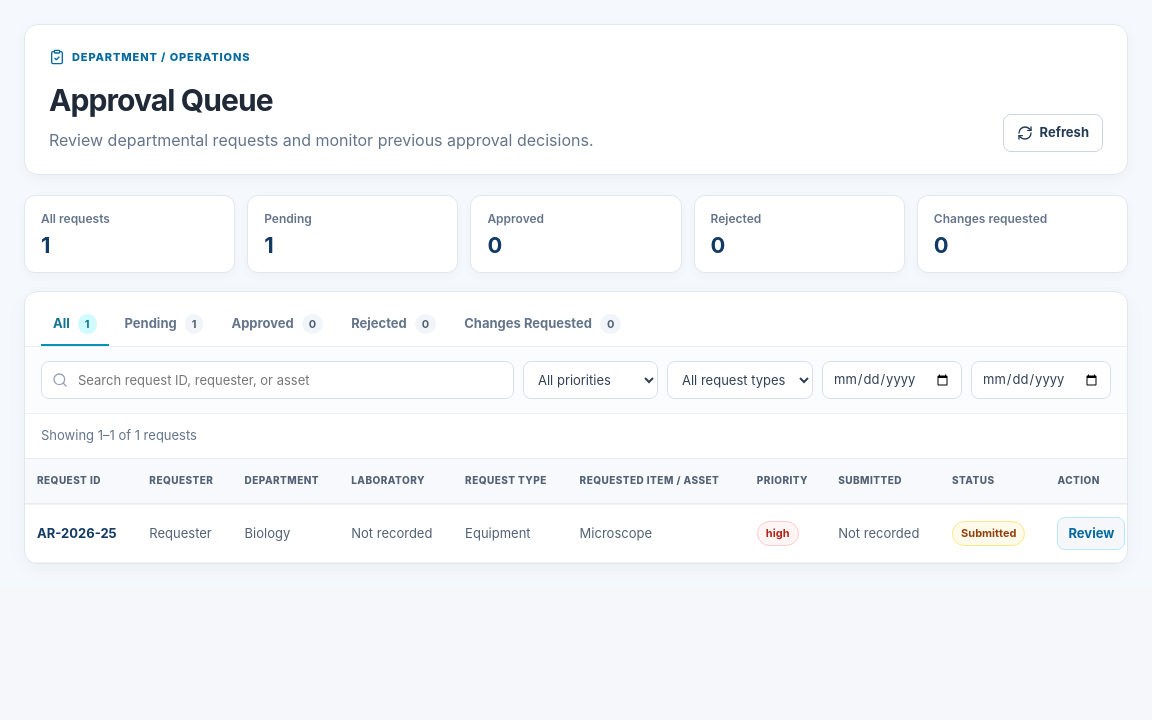
Test: requires a rejection reason and does not show success when the server rejects the action
This screenshot has width=1152, height=720.
Expected: the text "Microscope" is shown, [568, 504, 745, 562]
Click the button "Review" at (1091, 533), box [1058, 516, 1125, 550]
(page scrolled)
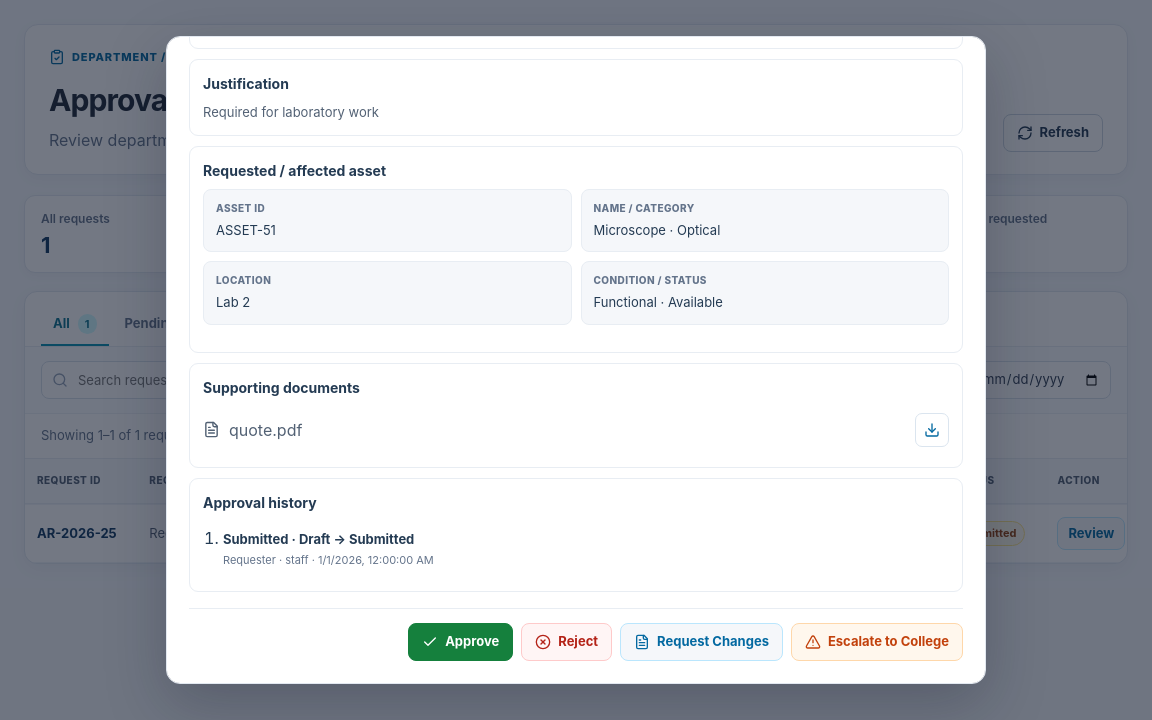
Expected: the text "Required for laboratory work" is shown, [203, 104, 379, 120]
Click the button "Reject" at (567, 642), box [521, 623, 612, 661]
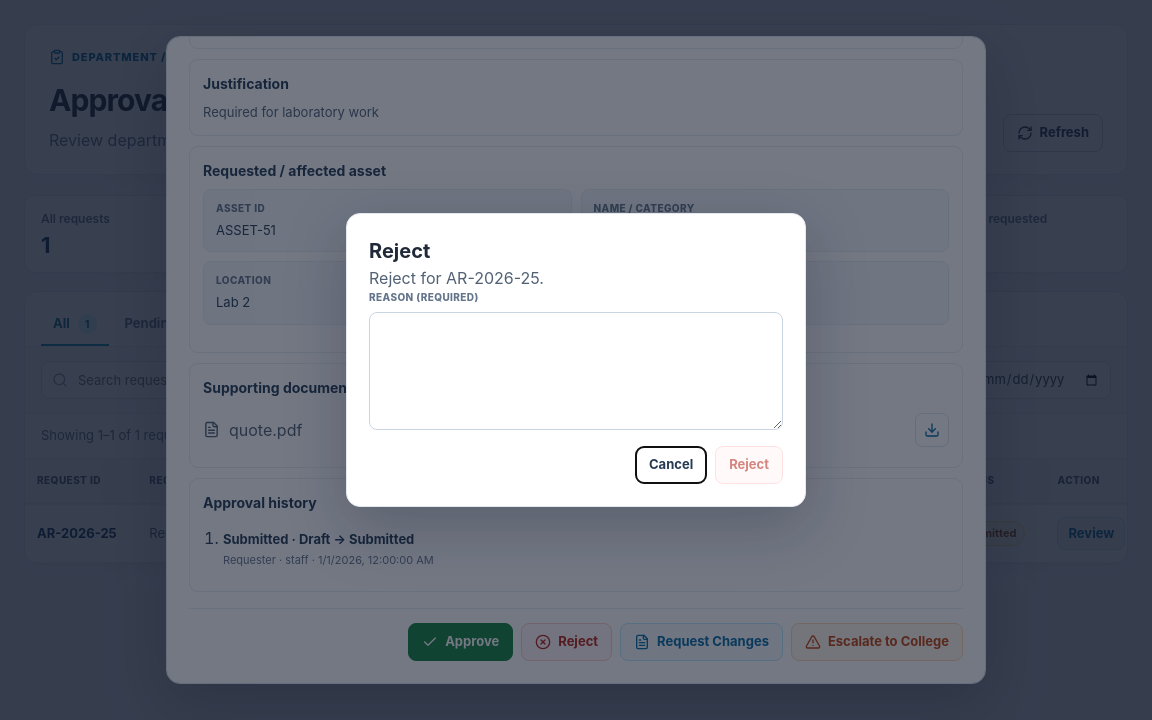
Expected: the button "Reject" is disabled, [715, 446, 783, 484]
Type "Insufficient justification" into the text box labelled "Reason (required)" at (576, 371), box [369, 312, 783, 430]
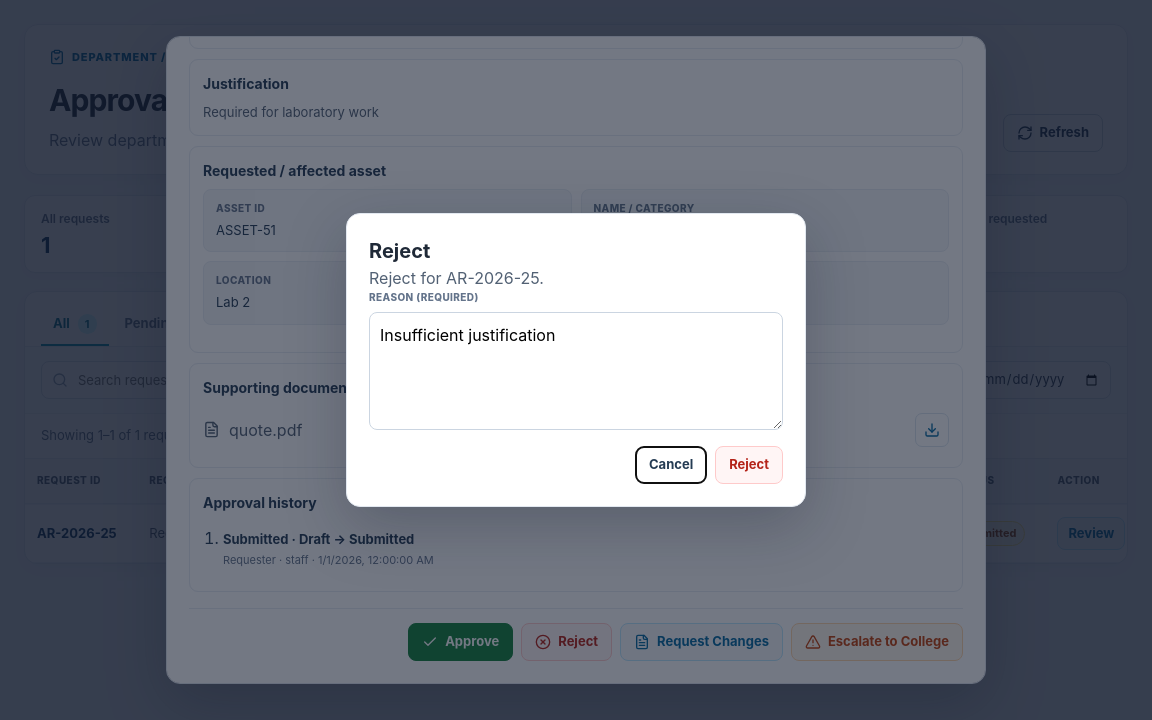
Expected: the button "Reject" is enabled
Click the button "Reject" at (749, 465), box [715, 446, 783, 484]
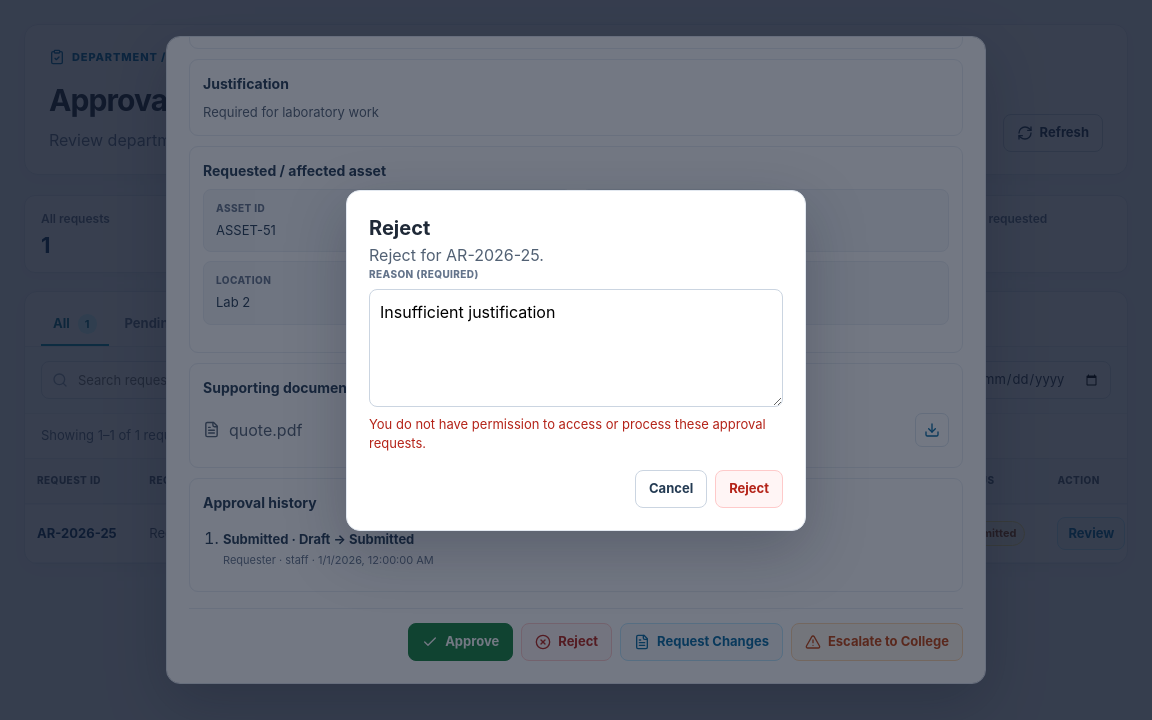
Expected: the dialog "Reject" is shown, [346, 190, 806, 530]
Expected: the message shows "You do not have permission", [369, 416, 766, 451]
